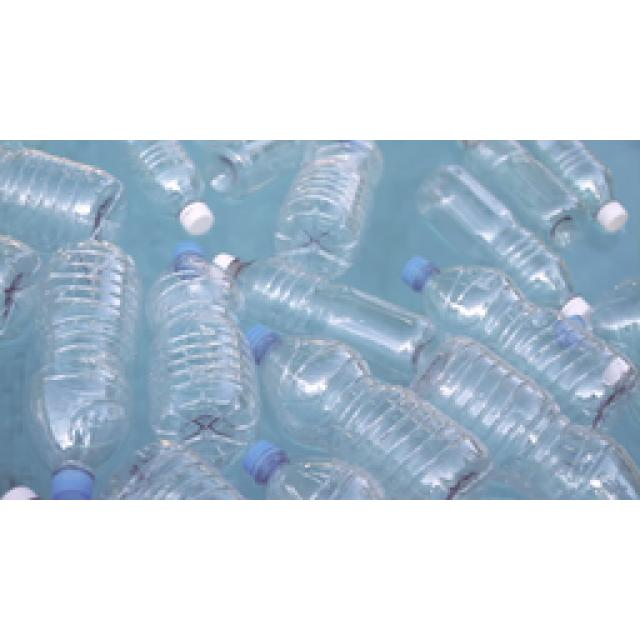plastic_water_bottles: (555, 143, 635, 237), (143, 140, 215, 232)
